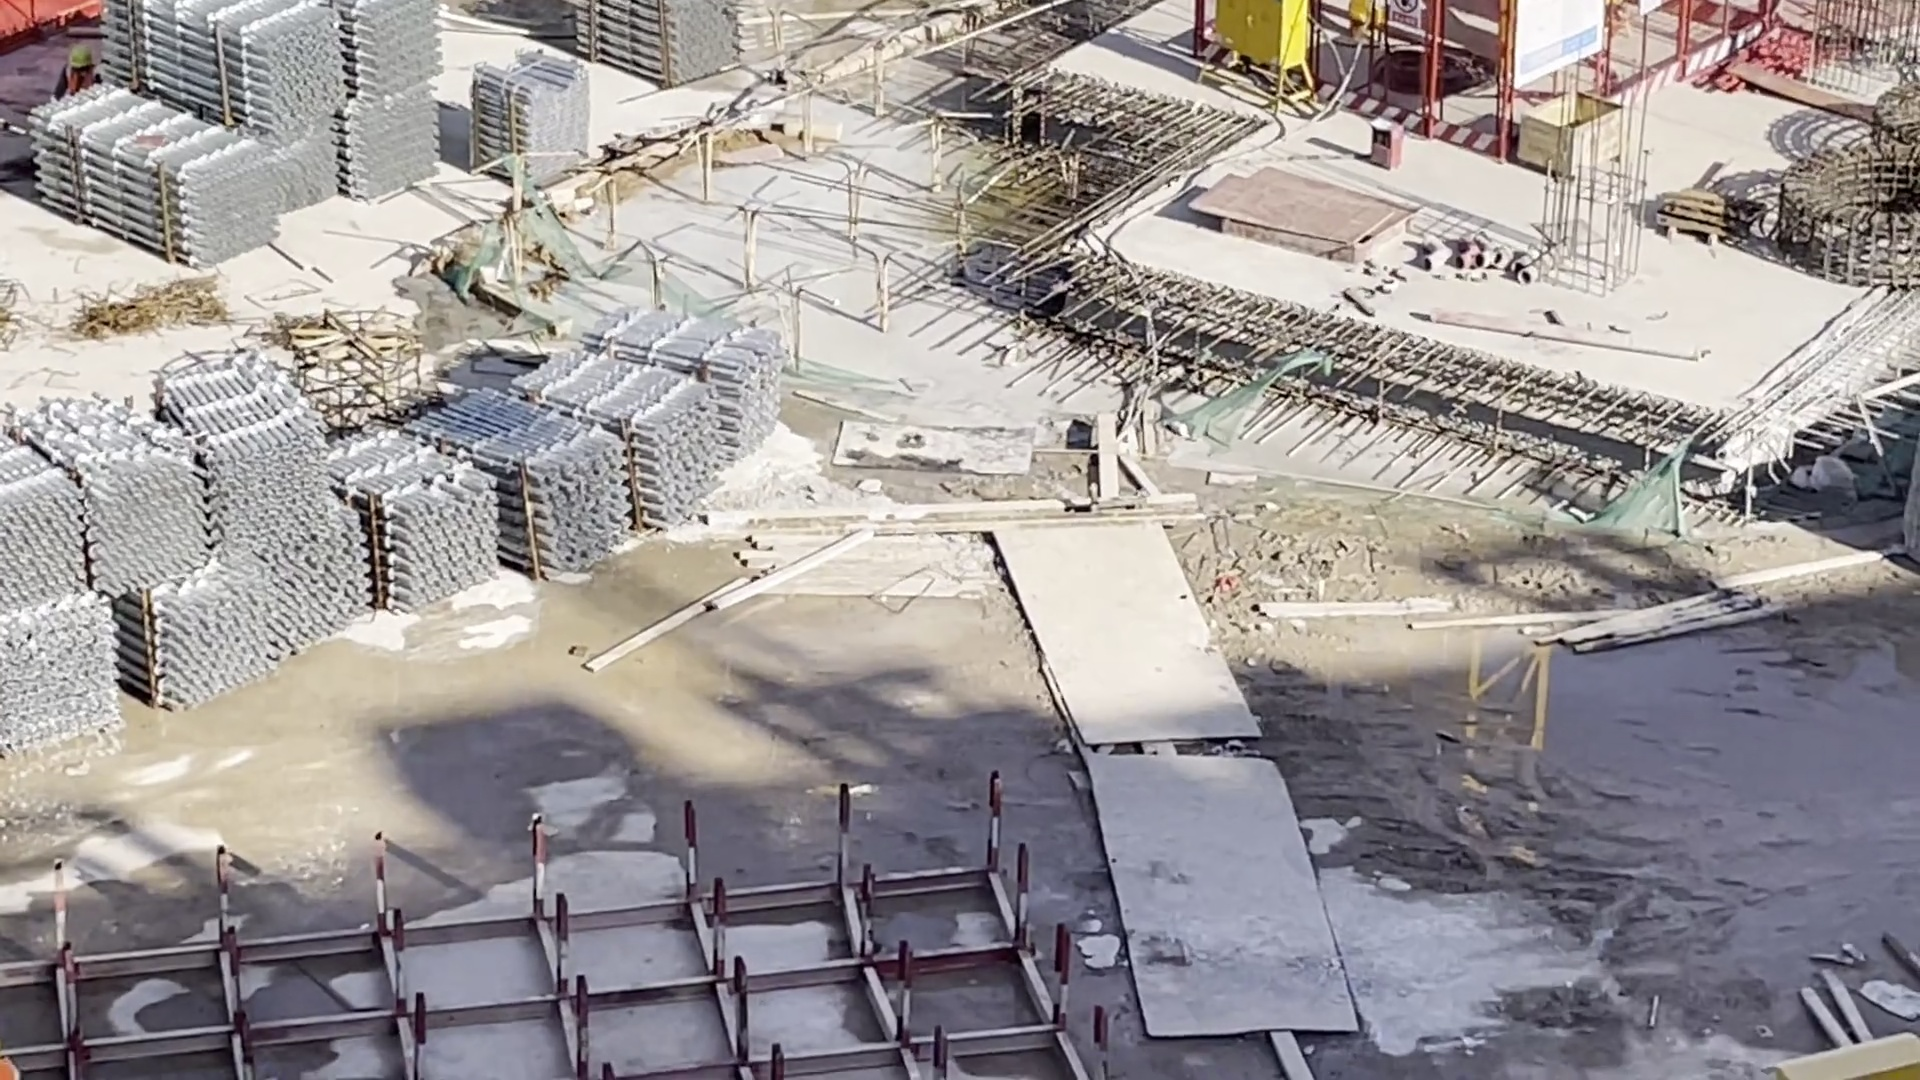board: (1195, 161, 1411, 255)
ebox: (1189, 1, 1309, 90)
scaffold: (1, 316, 782, 762), (29, 1, 450, 266), (467, 54, 597, 190)
